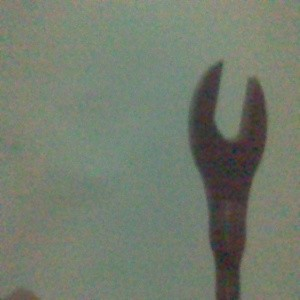spanner: (187, 60, 269, 300)
